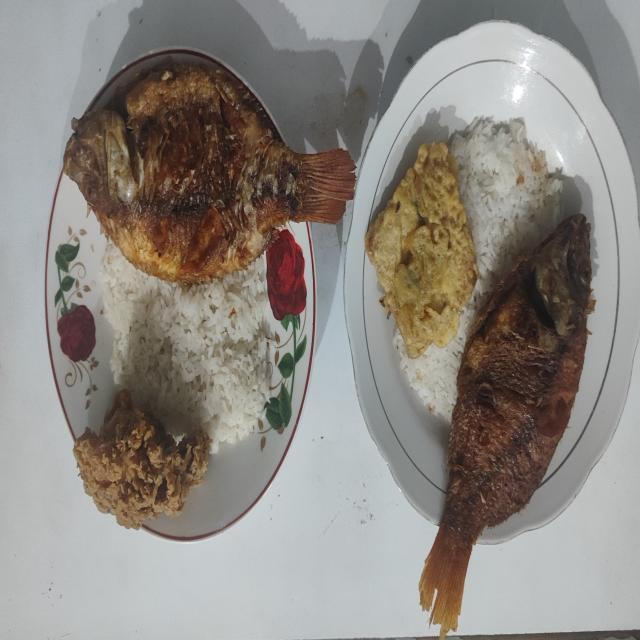ikan_mujair: (419, 214, 595, 638), (64, 61, 356, 283)
nasi_putih: (394, 119, 564, 421), (101, 244, 271, 451)
